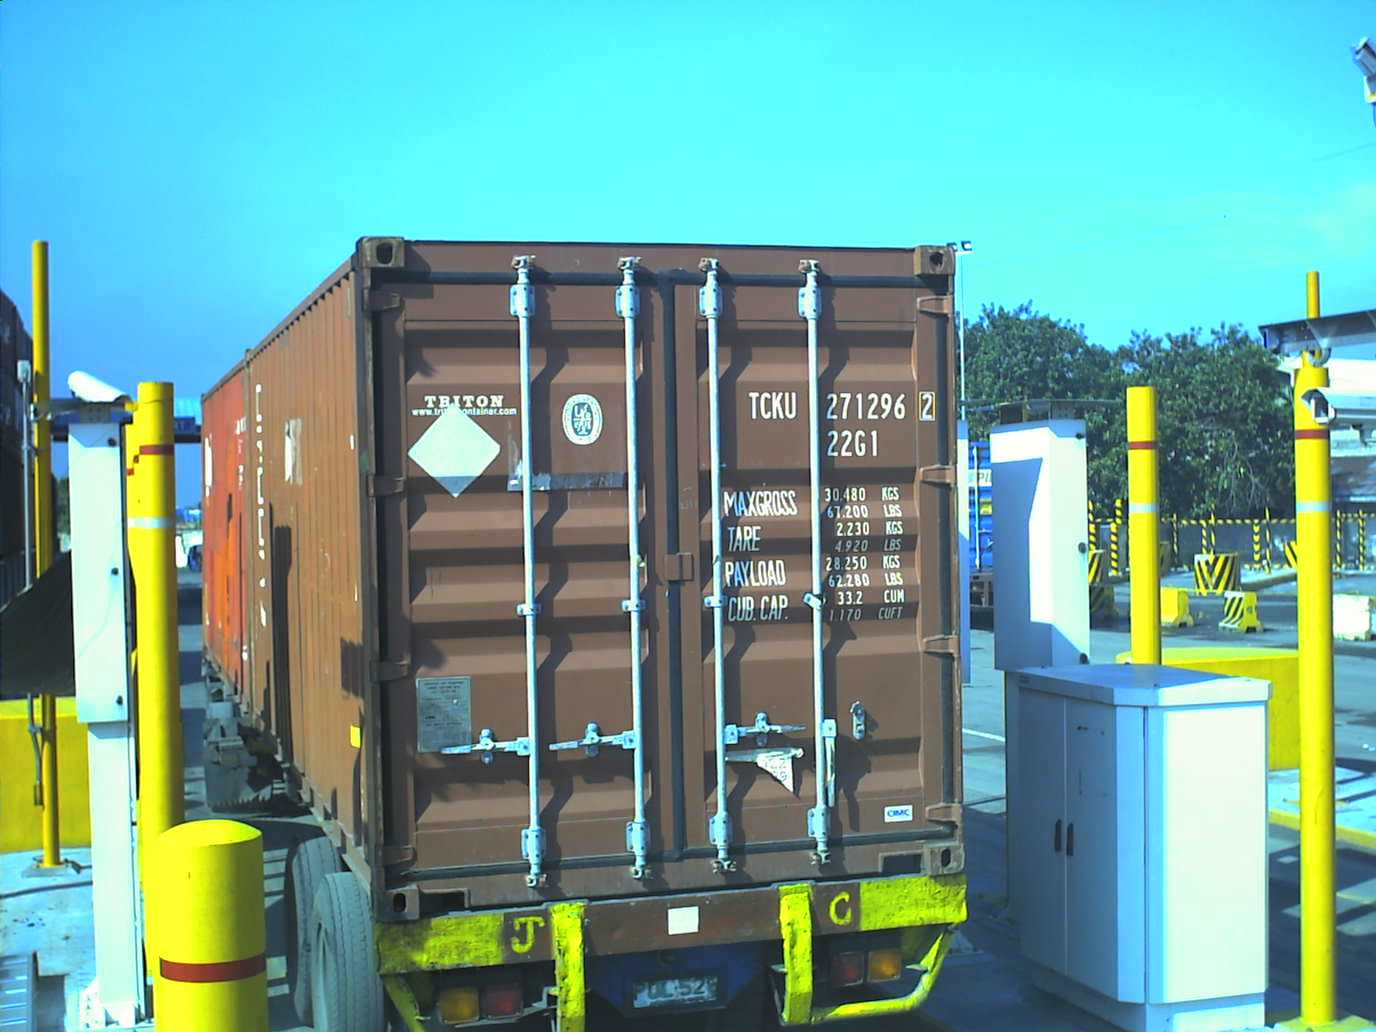container_door: (376, 244, 953, 911)
